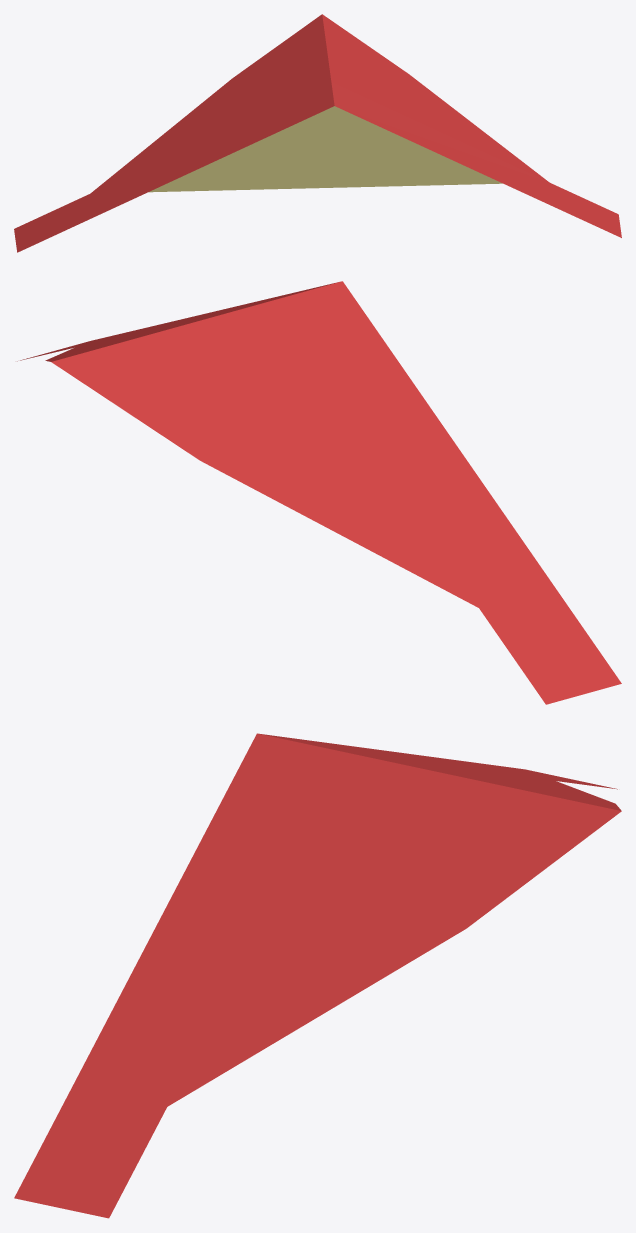
The picture shows the model from 3 angles, top to bottom: view 1: azimuth 30°, elevation 25°; view 2: azimuth 150°, elevation 25°; view 3: azimuth 270°, elevation 25°; orthographic projection. The views are drawn at different scales.
Bounding box in the file's own units: 7.49 × 4.28 × 2.03.
